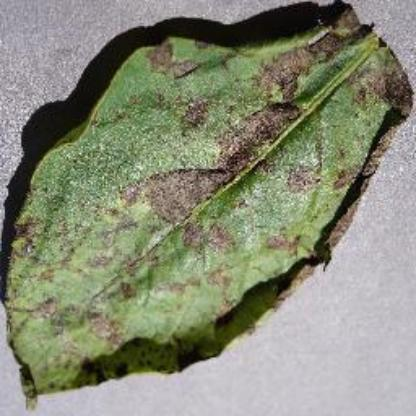Early-Blight: (8, 14, 416, 404)
